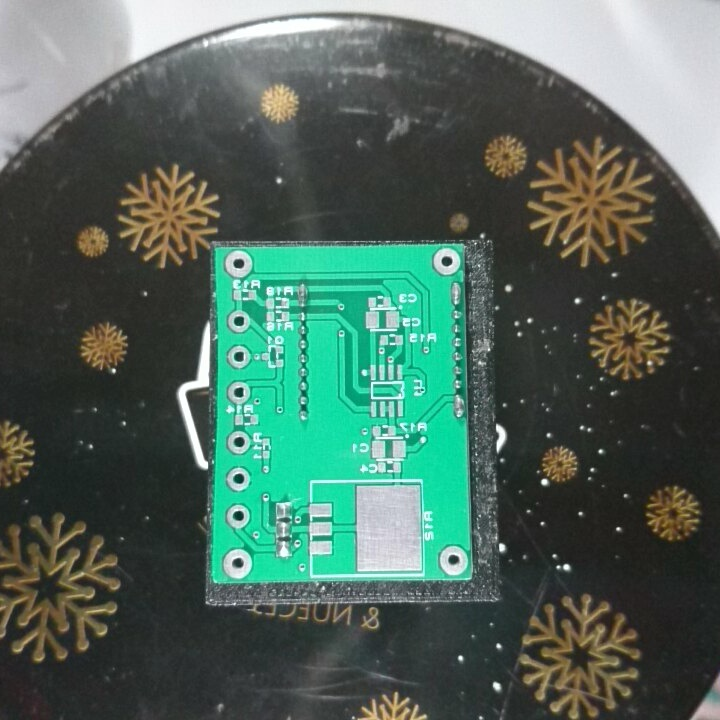F: (220, 546, 257, 579), (436, 543, 470, 578), (222, 249, 254, 280), (430, 246, 460, 275), (222, 503, 252, 532), (224, 307, 253, 335), (225, 379, 254, 406), (225, 464, 252, 492), (225, 429, 251, 457), (225, 344, 252, 369)
P: (448, 280, 463, 309), (451, 391, 466, 419), (295, 280, 311, 306)
